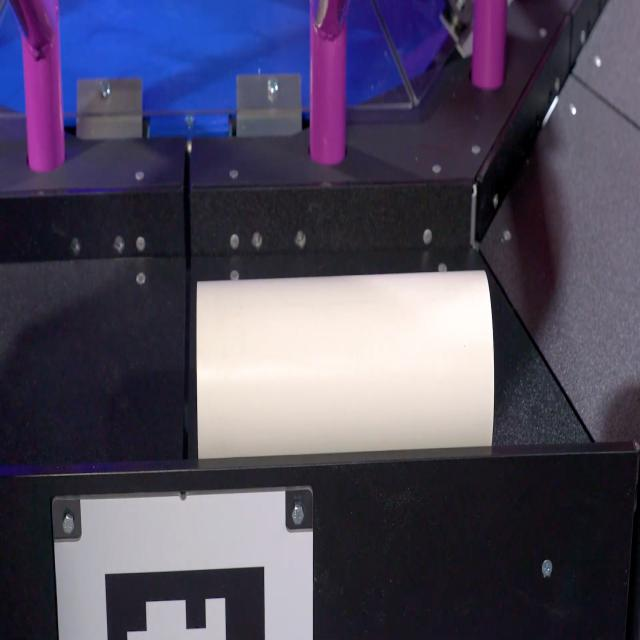Coral: (195, 268, 495, 460)
